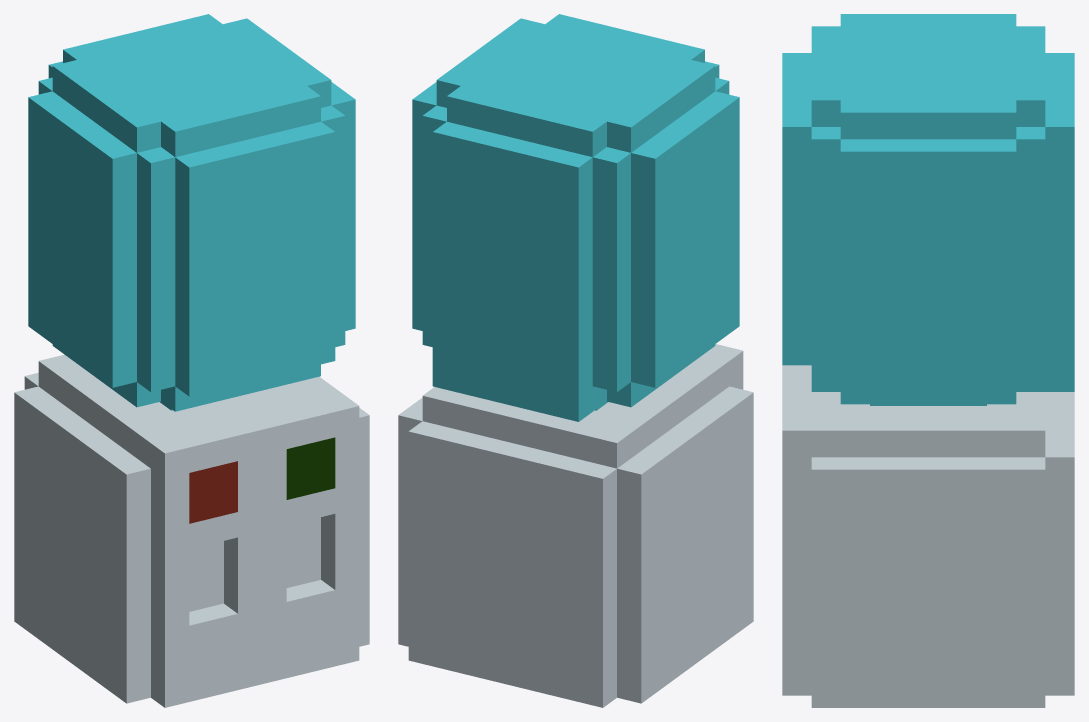
The model's file is Boiler.obj.
3 renders of one model, left to right at view 1: azimuth 30°, elevation 25°; view 2: azimuth 150°, elevation 25°; view 3: azimuth 270°, elevation 25°, orthographic. The views are drawn at different scales.
Bounding box in the file's own units: 1 × 2.2 × 1.
1 material, 1 textured.
